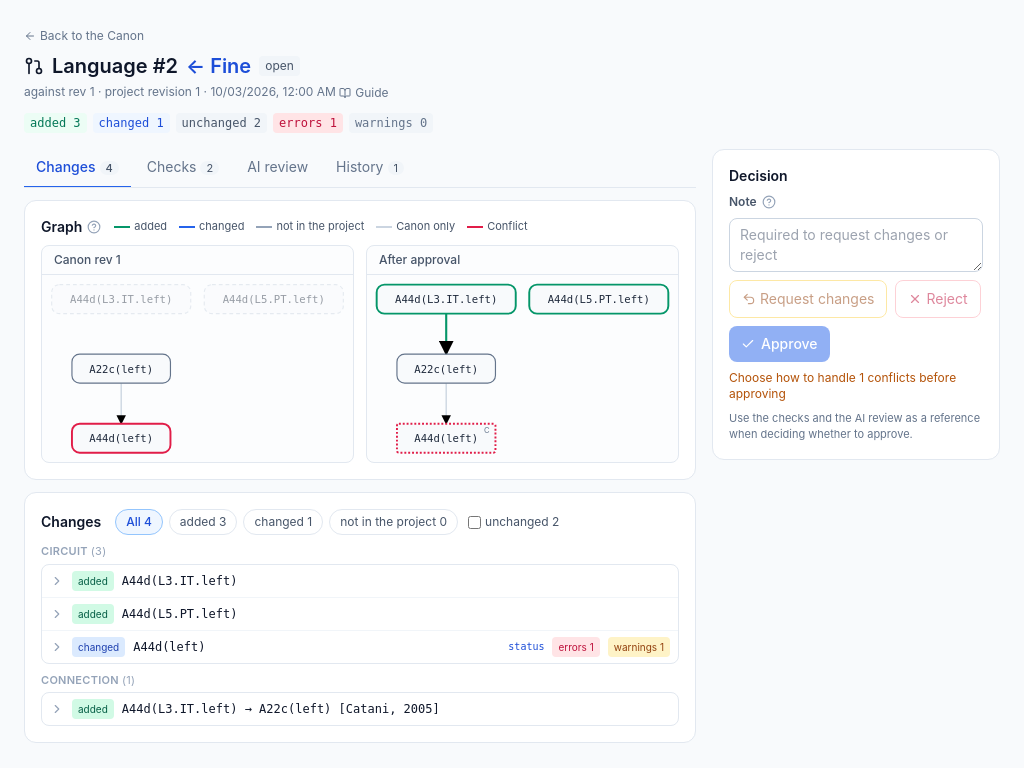
Test: Canon PR review page › shows the AI decision of an autonomous run with the requested changes
The image size is (1024, 768).
Click the tab with test id "tab-ai" at (278, 168), box [235,149,320,188]
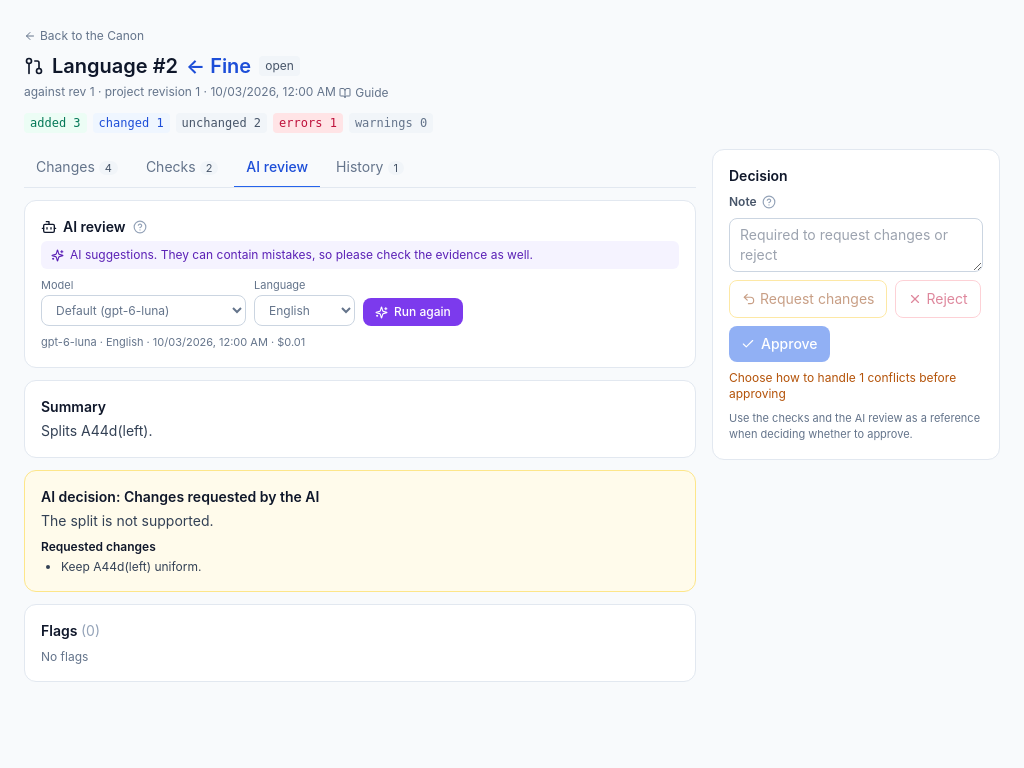
Check: the element with test id "ai-decision" shows "AI decision: Changes requested by the AI", box [24,470,696,592]
Check: the element with test id "ai-decision" shows "The split is not supported.", box [41,512,214,529]
Check: the list item "Keep A44d(left) uniform." is shown, box [61,559,202,574]
